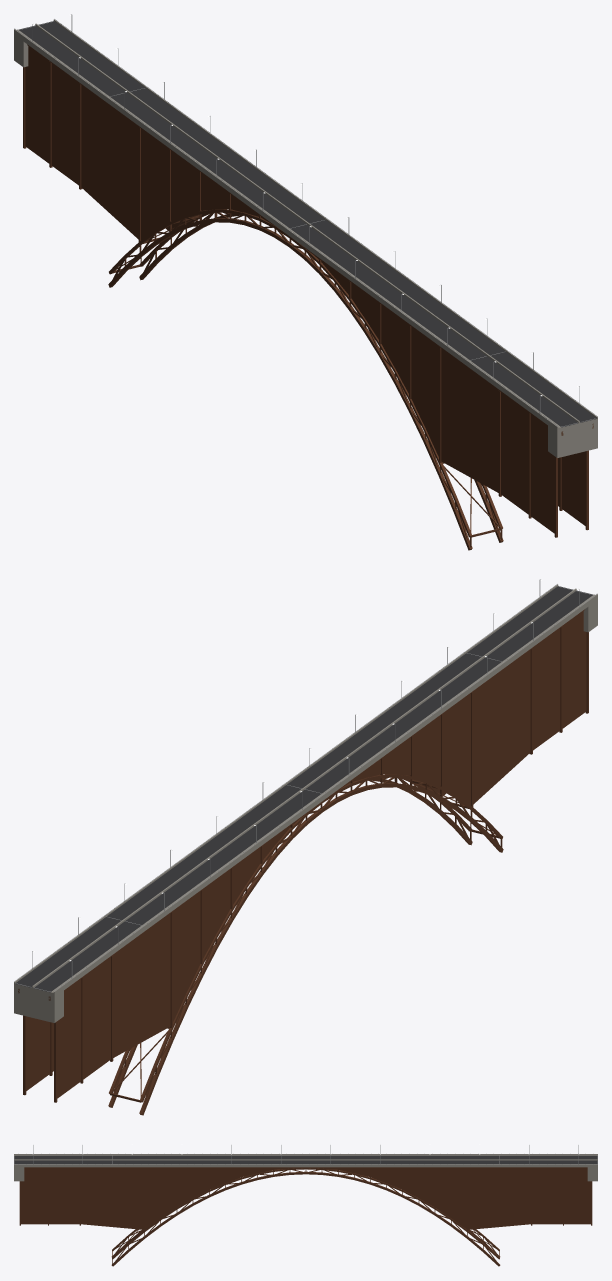
The model's file is tf_perrine_lookalike_bridge_v4.glb.
The picture shows the model from 3 angles, top to bottom: view 1: azimuth 30°, elevation 25°; view 2: azimuth 150°, elevation 25°; view 3: azimuth 270°, elevation 25°; orthographic projection. The views are drawn at different scales.
Visible parts, largest first — view 1: bridge_card, bridge_road, bridge_steel, bridge_conc, bridge_rail; view 2: bridge_card, bridge_road, bridge_steel, bridge_conc, bridge_rail; view 3: bridge_card, bridge_steel, bridge_road, bridge_conc, bridge_rail.
Boxes of the visible parts, x1=… form: bridge_card: x1=25, y1=46, x2=585, y2=533; bridge_road: x1=18, y1=21, x2=596, y2=427; bridge_steel: x1=23, y1=44, x2=593, y2=550; bridge_conc: x1=14, y1=19, x2=597, y2=457; bridge_rail: x1=14, y1=14, x2=597, y2=426; bridge_card: x1=26, y1=611, x2=586, y2=1098; bridge_road: x1=15, y1=586, x2=593, y2=992; bridge_steel: x1=18, y1=609, x2=588, y2=1115; bridge_conc: x1=14, y1=584, x2=597, y2=1022; bridge_rail: x1=14, y1=579, x2=597, y2=991; bridge_card: x1=21, y1=1169, x2=590, y2=1229; bridge_steel: x1=19, y1=1167, x2=592, y2=1266; bridge_road: x1=14, y1=1155, x2=597, y2=1163; bridge_conc: x1=14, y1=1154, x2=597, y2=1181; bridge_rail: x1=14, y1=1145, x2=597, y2=1164.
Size of what is drawn, in the model's own units: 19.7 by 97.41 by 457.
